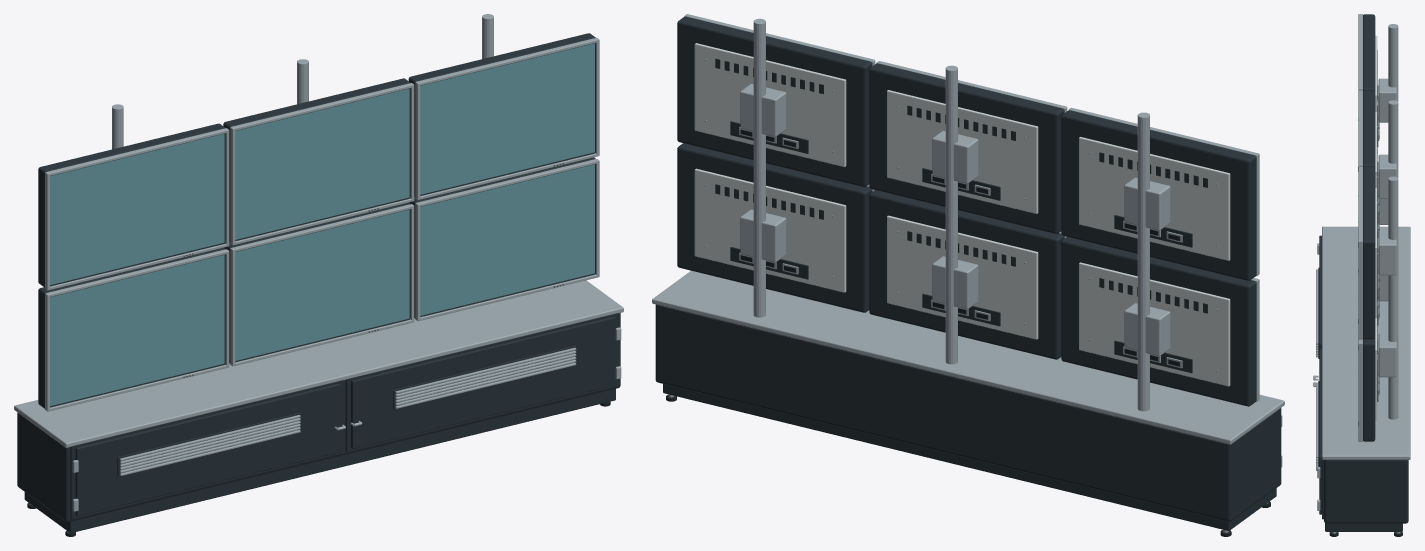
Rendered from RD_CentralVideoWall.fbx.
3 views of the same model, side by side, from view 1: azimuth 30°, elevation 25°; view 2: azimuth 150°, elevation 25°; view 3: azimuth 270°, elevation 25° (orthographic). The views are drawn at different scales.
Parts seen in each view (by area): view 1: RD_CentralVideoWall; view 2: RD_CentralVideoWall; view 3: RD_CentralVideoWall.
Part boxes in pixels (x1,y1,x2,y2): RD_CentralVideoWall: [14, 14, 623, 536]; RD_CentralVideoWall: [652, 14, 1284, 536]; RD_CentralVideoWall: [1313, 14, 1410, 536].
Size of the model in its own units: 482 by 316 by 86.12.
